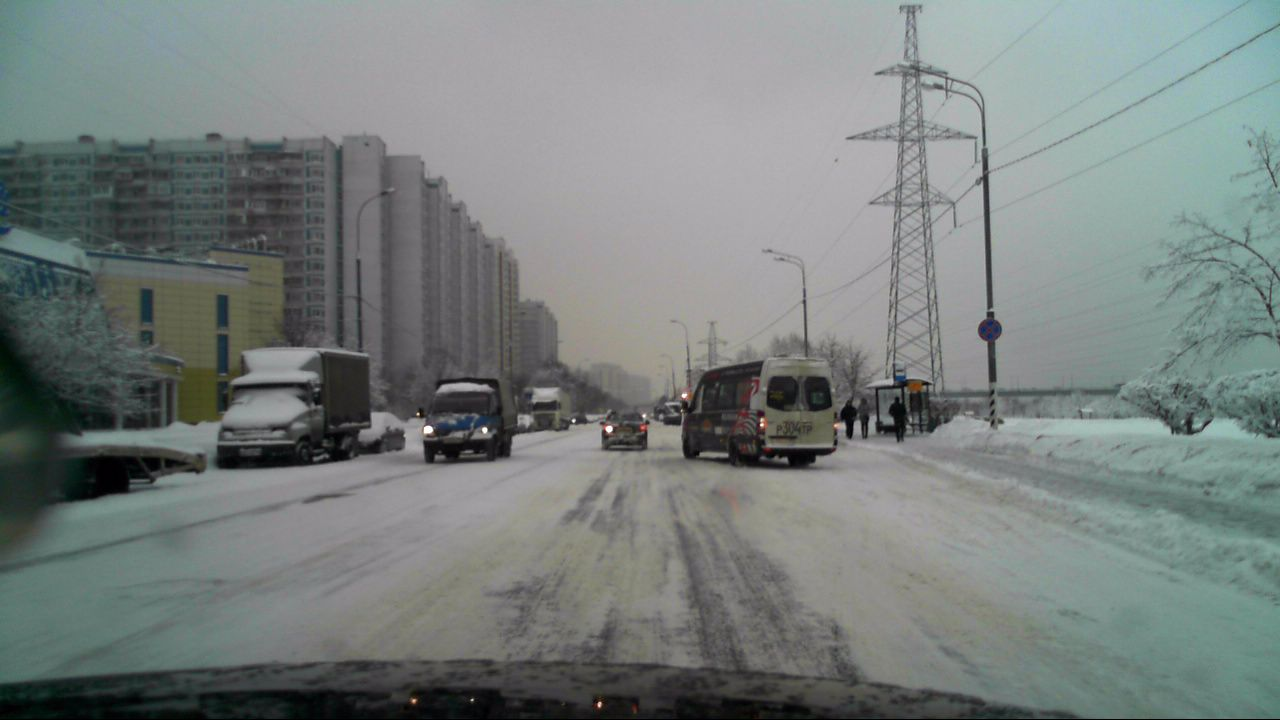No Parking: (975, 315, 1004, 344)
